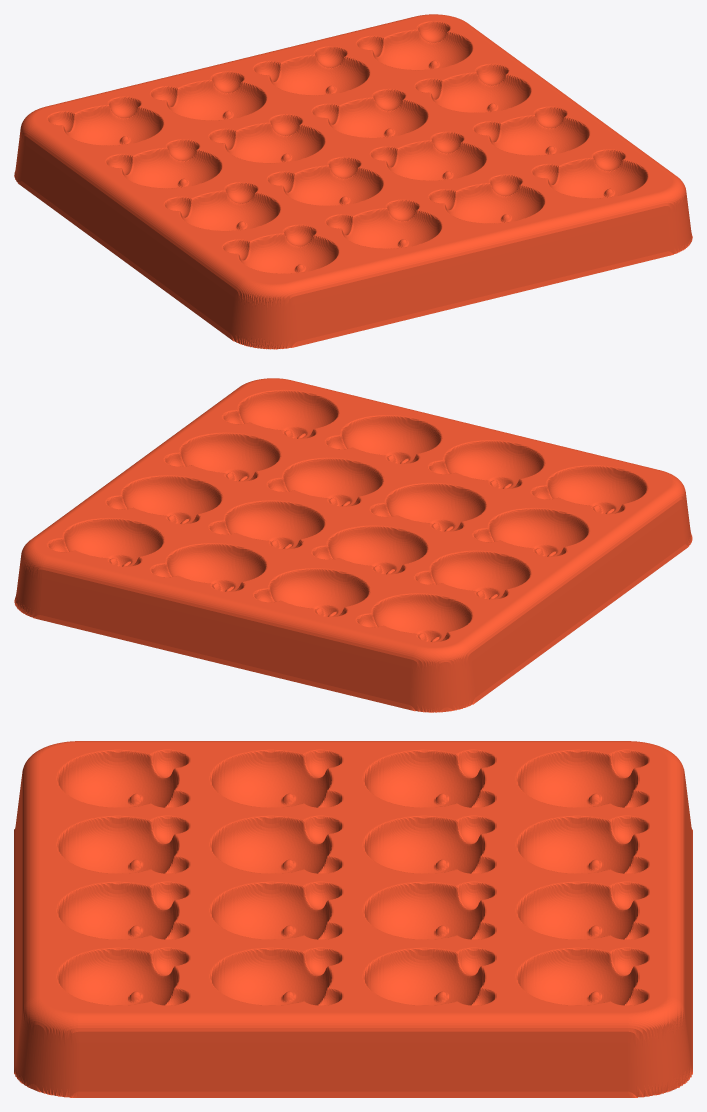
File: mold.glb
3 views of the same model, one above another, from view 1: azimuth 30°, elevation 25°; view 2: azimuth 150°, elevation 25°; view 3: azimuth 270°, elevation 25° (orthographic). The views are drawn at different scales.
Parts seen in each view (by area): view 1: geometry_0; view 2: geometry_0; view 3: geometry_0.
Part boxes in pixels (<box>): geometry_0: <box>14,14,692,349</box>; geometry_0: <box>14,378,692,712</box>; geometry_0: <box>14,741,692,1097</box>.
Size of the model in its own units: 0.0956 by 0.0114 by 0.094.
